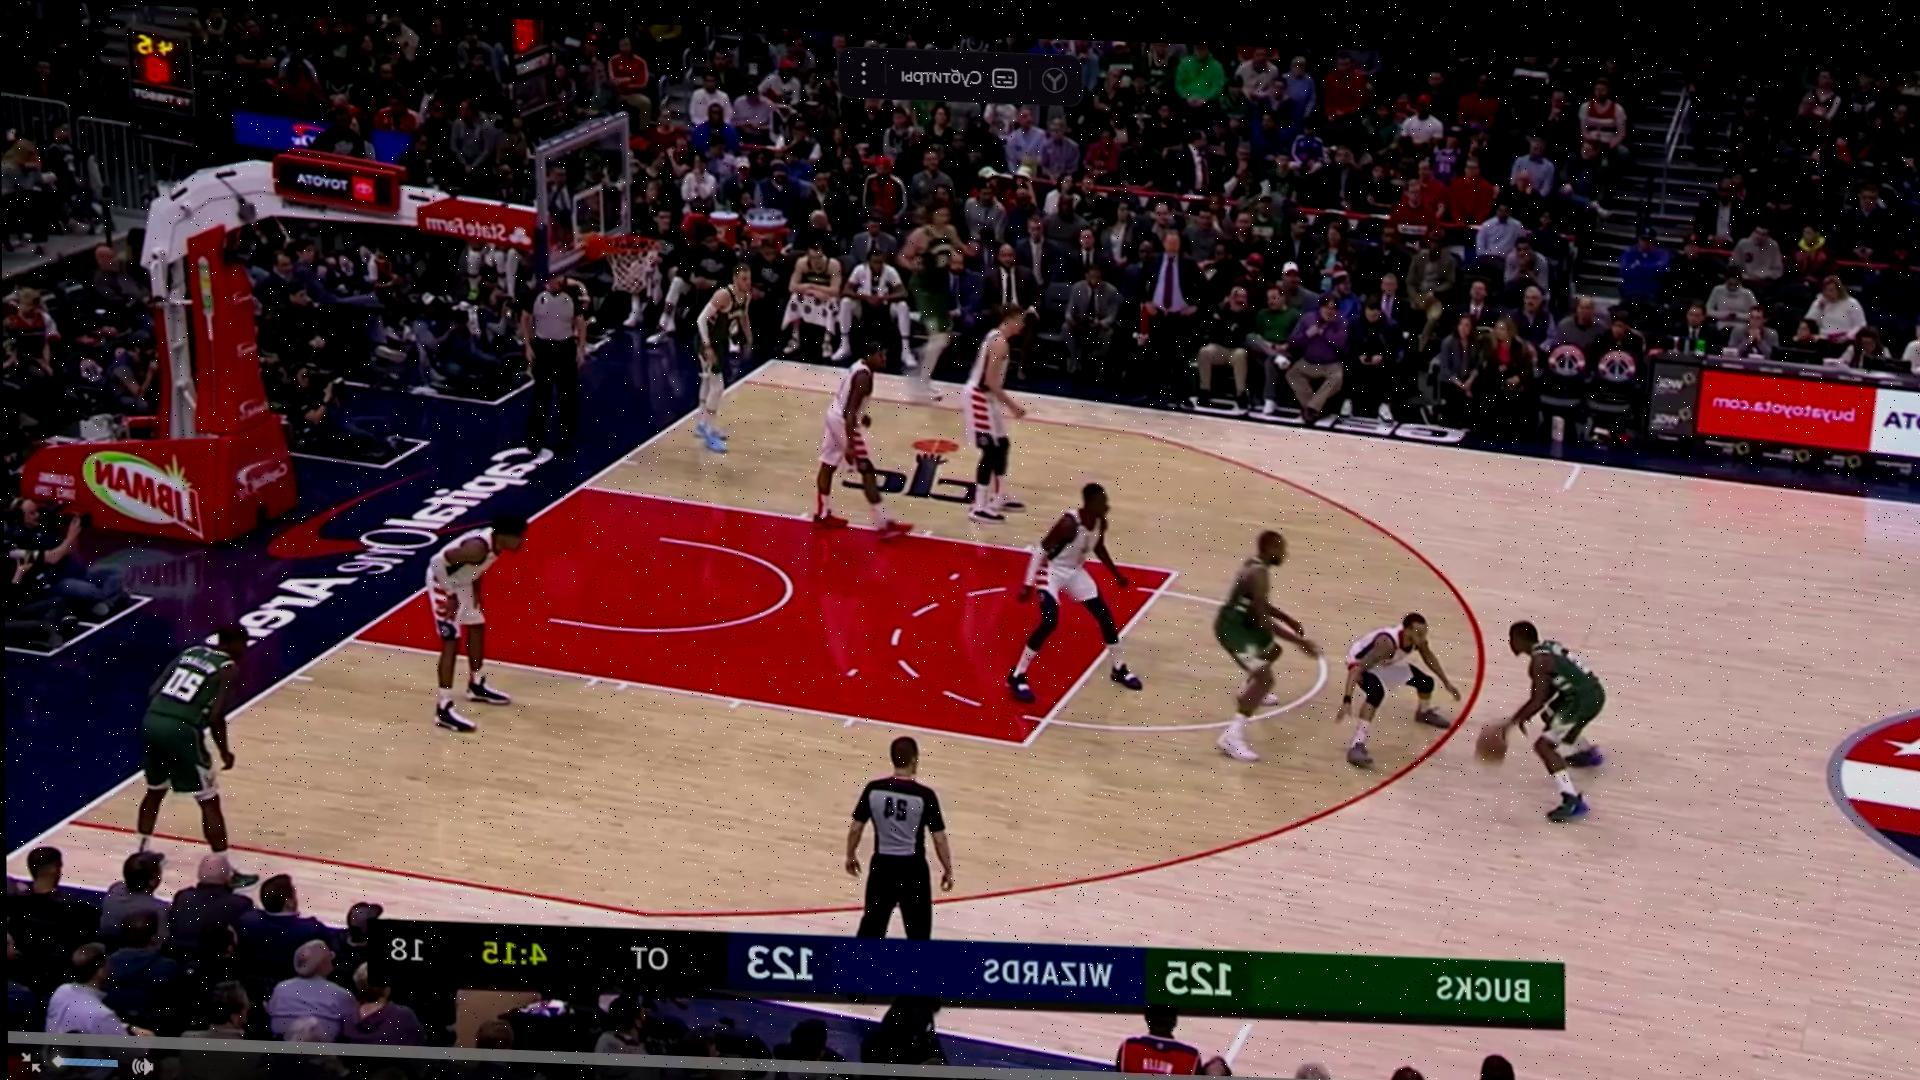no_foul: (1316, 602, 1606, 820)
